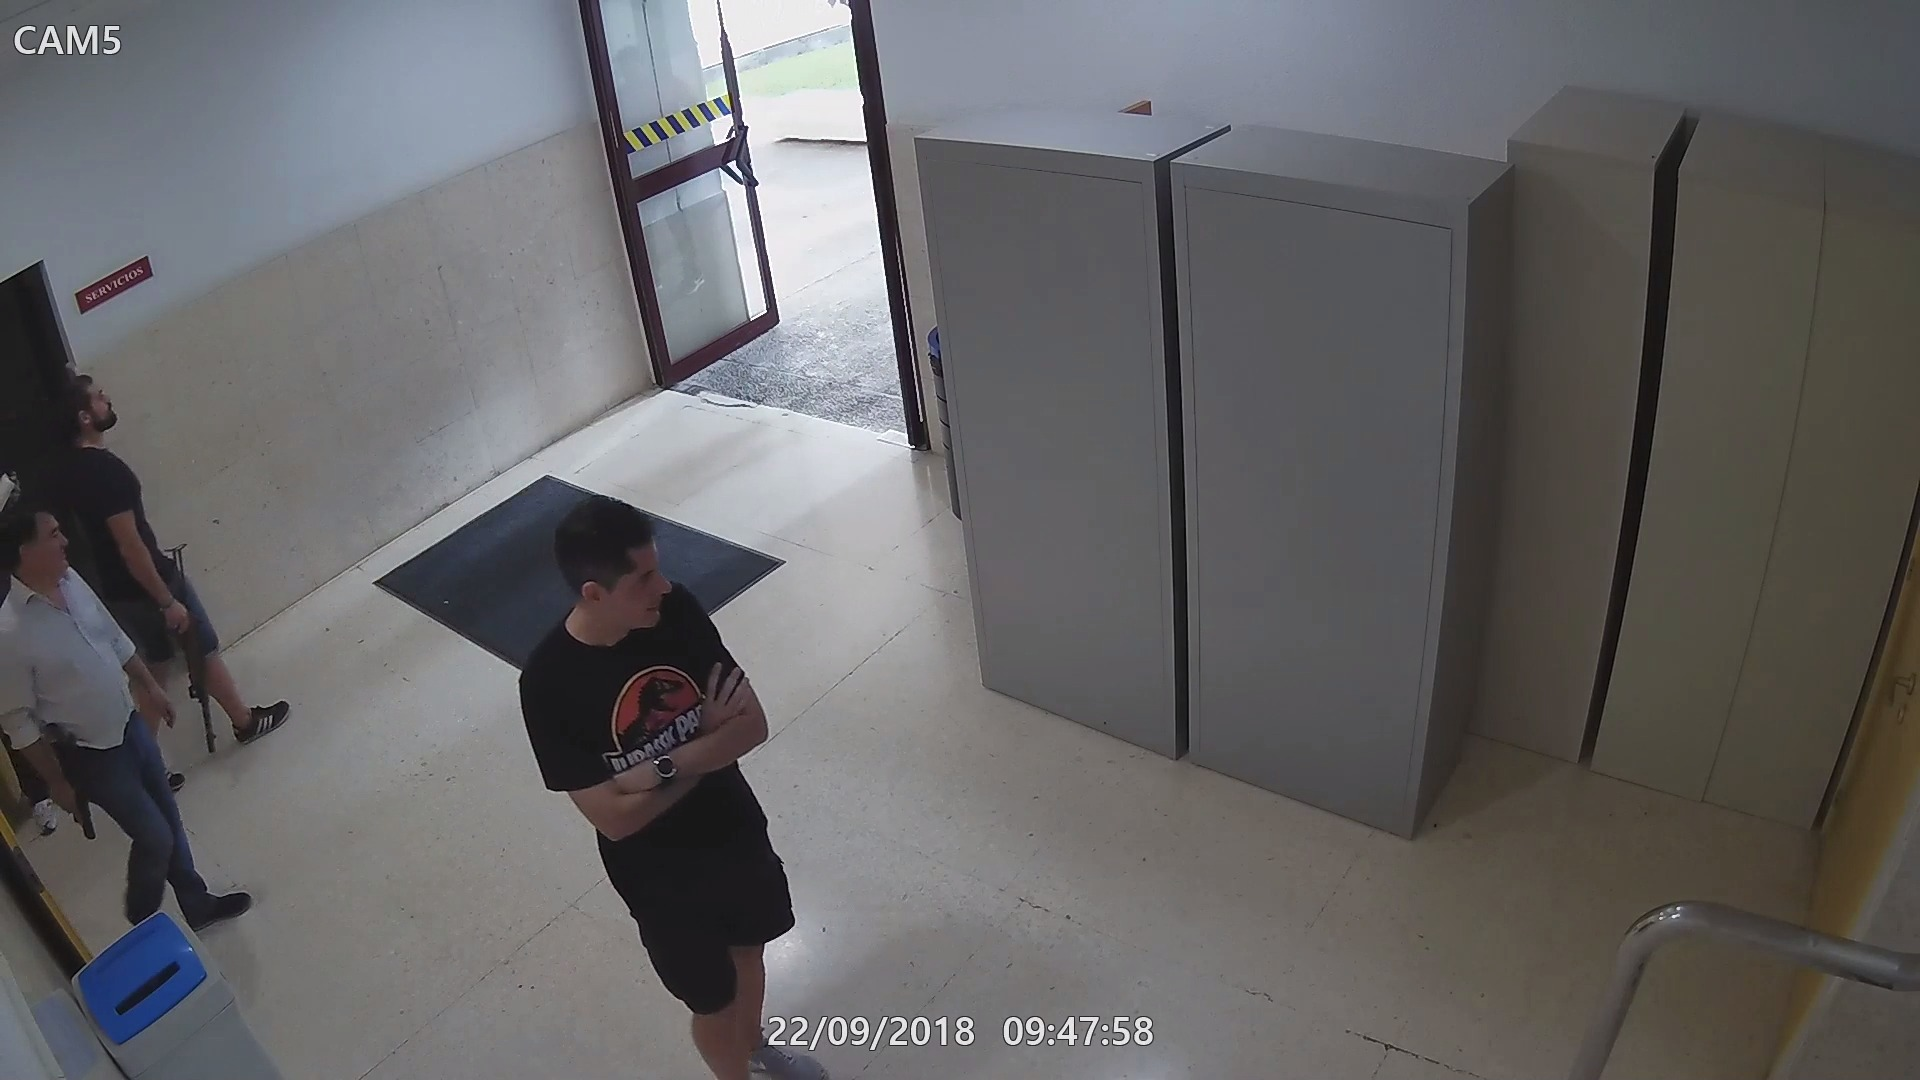Handgun: (50, 773, 98, 843)
Short_rifle: (158, 593, 218, 754)
